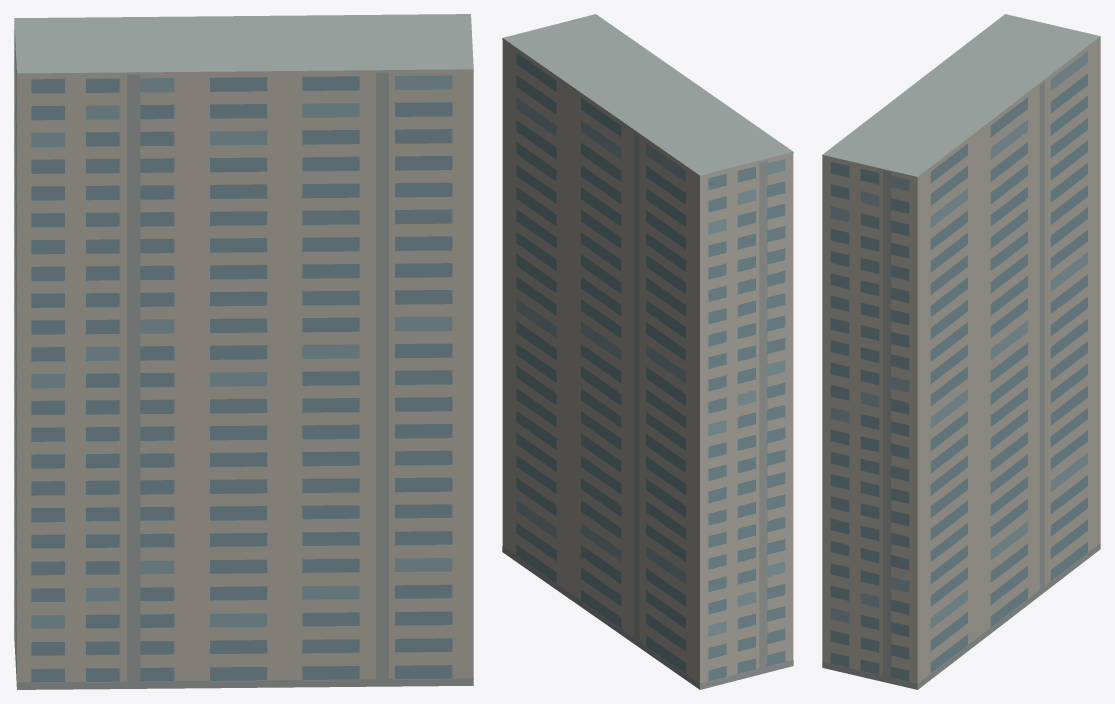
File: residential-15e15d79-1cd5-49c6-86fc-aa4719dbdf43.glb
3 renders of one model, left to right at view 1: azimuth 30°, elevation 25°; view 2: azimuth 150°, elevation 25°; view 3: azimuth 270°, elevation 25°, orthographic. The views are drawn at different scales.
Parts seen in each view (by area): view 1: residential-15e15d79-1cd5-49c6-86fc-aa4719dbdf43.tmp; view 2: residential-15e15d79-1cd5-49c6-86fc-aa4719dbdf43.tmp; view 3: residential-15e15d79-1cd5-49c6-86fc-aa4719dbdf43.tmp.
Part boxes in pixels (bbox=[...]): residential-15e15d79-1cd5-49c6-86fc-aa4719dbdf43.tmp: bbox=[14, 14, 473, 689]; residential-15e15d79-1cd5-49c6-86fc-aa4719dbdf43.tmp: bbox=[502, 14, 793, 689]; residential-15e15d79-1cd5-49c6-86fc-aa4719dbdf43.tmp: bbox=[822, 14, 1100, 689].
Size of the model in its own units: 42.25 by 62 by 30.51.
